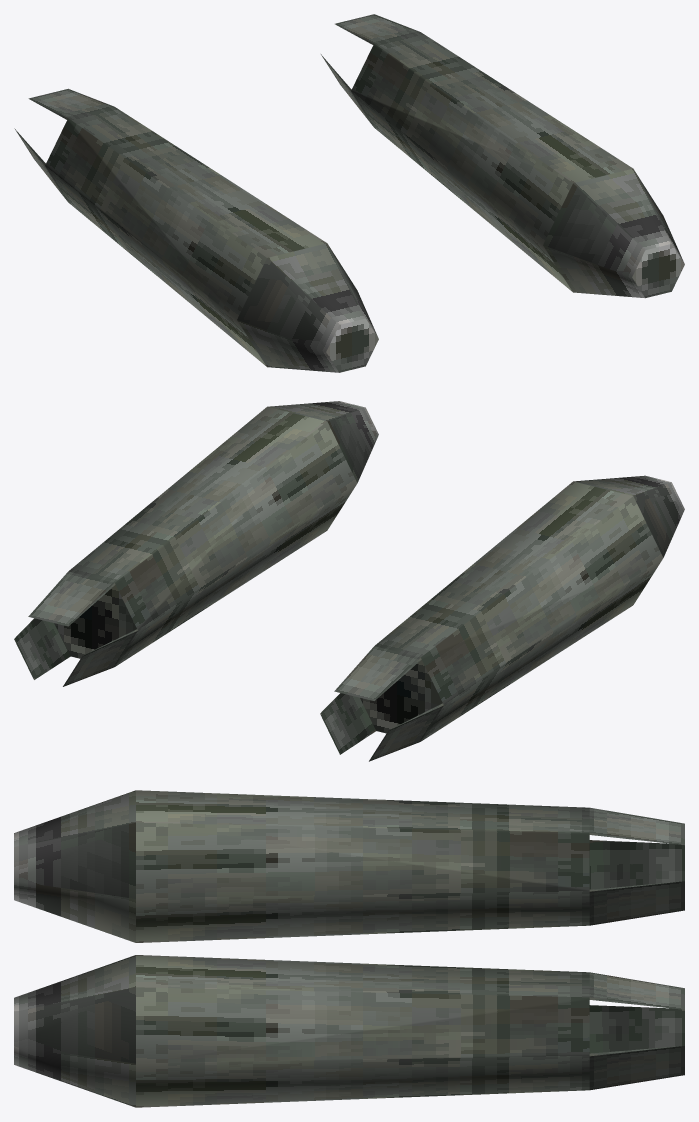
File: black_sun_fighter_heavy_engine_s01_l3.fbx
3 renders of one model, top to bottom at view 1: azimuth 30°, elevation 25°; view 2: azimuth 150°, elevation 25°; view 3: azimuth 270°, elevation 25°, orthographic. The views are drawn at different scales.
Visible parts, largest first — view 1: mesh_node; view 2: mesh_node; view 3: mesh_node.
Boxes of the visible parts, box(x1,y1,x2,y2) form: mesh_node: box(14, 14, 684, 372); mesh_node: box(14, 401, 684, 761); mesh_node: box(14, 790, 684, 1107).
Bounding box in the file's own units: 8.26 × 2.02 × 10.2.
